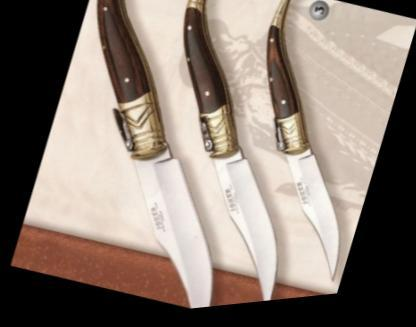knife: (96, 148, 252, 318), (178, 157, 312, 311), (273, 158, 369, 292)
